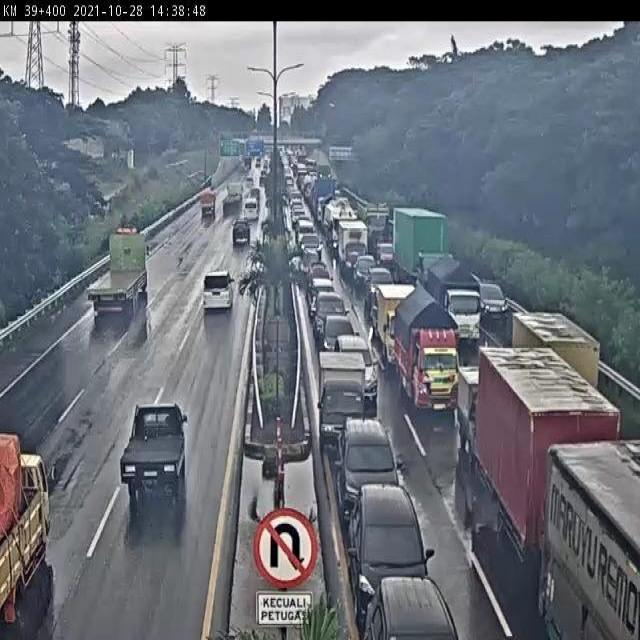big truck: (479, 345, 626, 595), (85, 225, 152, 320), (391, 205, 451, 298), (219, 180, 244, 216)
car: (349, 486, 436, 618), (335, 418, 399, 530), (363, 577, 460, 640), (335, 336, 380, 403), (319, 315, 360, 369), (312, 290, 350, 342), (202, 266, 237, 314), (367, 265, 395, 308), (309, 276, 334, 316), (355, 255, 376, 288), (228, 220, 252, 248)
small bus: (239, 197, 257, 227)
small truck: (511, 311, 603, 449), (393, 287, 462, 416), (119, 399, 196, 505), (458, 365, 521, 468), (317, 348, 369, 449), (424, 252, 482, 339), (377, 283, 420, 369), (339, 220, 369, 276), (197, 189, 216, 219)
